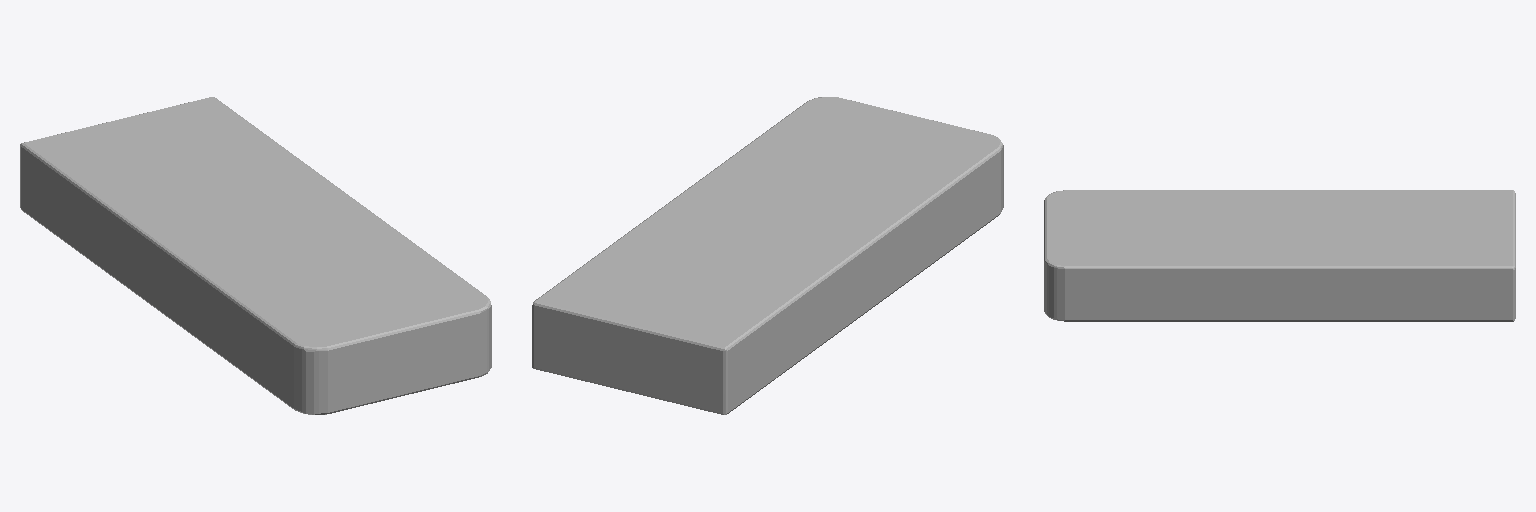
robot.urdf — root:
<?xml version="1.0"?>
<robot name="root">
  <link name="base_link">
    <visual>
      <origin xyz="0 0 0" rpy="0 0 0" />
      <geometry>
        <mesh filename="../meshes/unidex_core_cellphone-3dac1f92b3e13977d19f91734fdc72ea_012.obj" scale="1.0000E+00 1.0000E+00 1.0000E+00" />
      </geometry>
      <material name="">
        <color rgba="7.50E-01 7.50E-01 7.50E-01 1" />
      </material>
    </visual>
    <collision>
      <origin xyz="0 0 0" rpy="0 0 0" />
      <geometry>
        <mesh filename="../meshes/unidex_core_cellphone-3dac1f92b3e13977d19f91734fdc72ea_012.obj" scale="1.0000E+00 1.0000E+00 1.0000E+00" />
      </geometry>
    </collision>
  </link>
</robot>

--- Facts derived from the render (not from the file) ---
The picture shows the robot from 3 angles, left to right: view 1: azimuth 30°, elevation 25°; view 2: azimuth 150°, elevation 25°; view 3: azimuth 270°, elevation 25°; orthographic projection.
Robot: root — 1 links, 0 joints (none); root link base_link; default pose: all joints at 0.
Links seen in each view (by area): view 1: base_link; view 2: base_link; view 3: base_link.
Link boxes in pixels (x1,y1,x2,y2): base_link: (20, 97, 491, 414); base_link: (532, 97, 1003, 414); base_link: (1044, 190, 1515, 321).
Size in the robot's own frame: 0.0853 by 0.218 by 0.0308 metres.
Meshes: 1 distinct files referenced, 1 mesh visuals loaded (1 OBJ).
